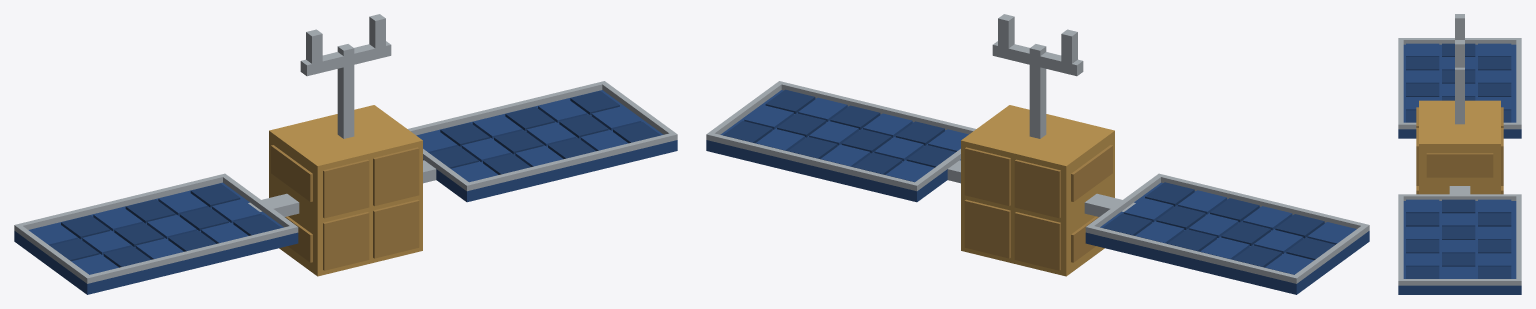
The model's file is NEW_RECOVERY_077_LOD1.glb.
The picture shows the model from 3 angles, left to right: view 1: azimuth 30°, elevation 25°; view 2: azimuth 150°, elevation 25°; view 3: azimuth 270°, elevation 25°; orthographic projection. The views are drawn at different scales.
Visible parts, largest first — view 1: Satellite; view 2: Satellite; view 3: Satellite.
Boxes of the visible parts, x1,y1,x2,y2 form: Satellite: (14, 14, 677, 294); Satellite: (706, 14, 1369, 294); Satellite: (1398, 14, 1521, 294).
Bounding box in the file's own units: 7 × 2.5 × 1.5.
